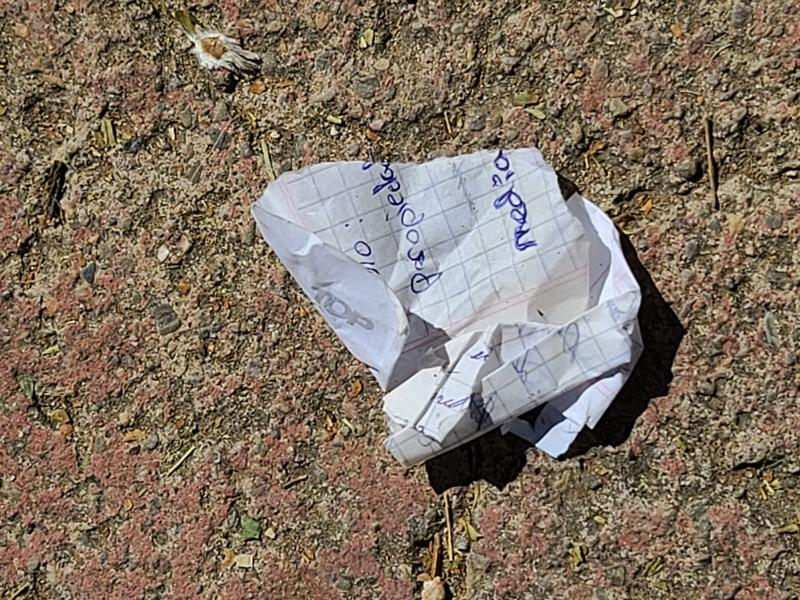papel: (251, 147, 680, 468)
